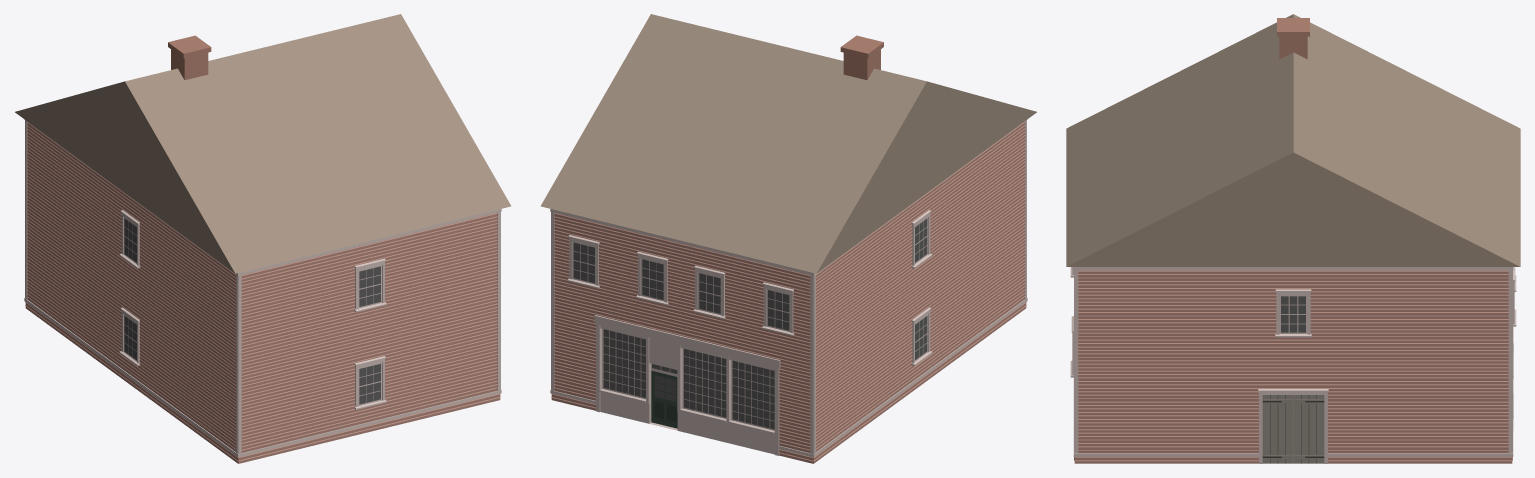
Rendered from recon_1835_blk_south_water_franklin_c4_01__inferred_1835.glb.
3 views of the same model, side by side, from view 1: azimuth 30°, elevation 25°; view 2: azimuth 150°, elevation 25°; view 3: azimuth 270°, elevation 25° (orthographic). The views are drawn at different scales.
Parts seen in each view (by area): view 1: recon_1835_blk_south_water_franklin_c4_01__inferred_1835; view 2: recon_1835_blk_south_water_franklin_c4_01__inferred_1835; view 3: recon_1835_blk_south_water_franklin_c4_01__inferred_1835.
Boxes of the visible parts, x1,y1,x2,y2 form: recon_1835_blk_south_water_franklin_c4_01__inferred_1835: (15,14,510,463); recon_1835_blk_south_water_franklin_c4_01__inferred_1835: (541,14,1036,463); recon_1835_blk_south_water_franklin_c4_01__inferred_1835: (1066,14,1520,463).
Size of the model in its own units: 9.82 by 11.12 by 13.61.
